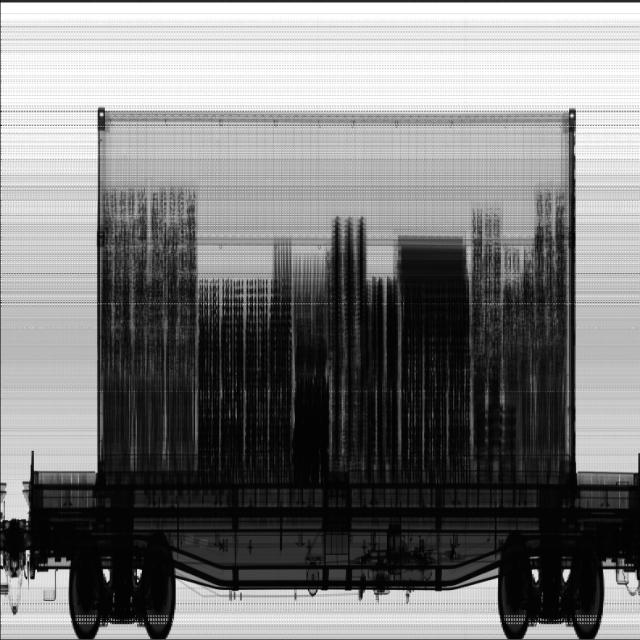auto parts: (100, 188, 199, 378)
fabrics: (394, 238, 467, 292)
spare parts: (471, 375, 516, 459)
